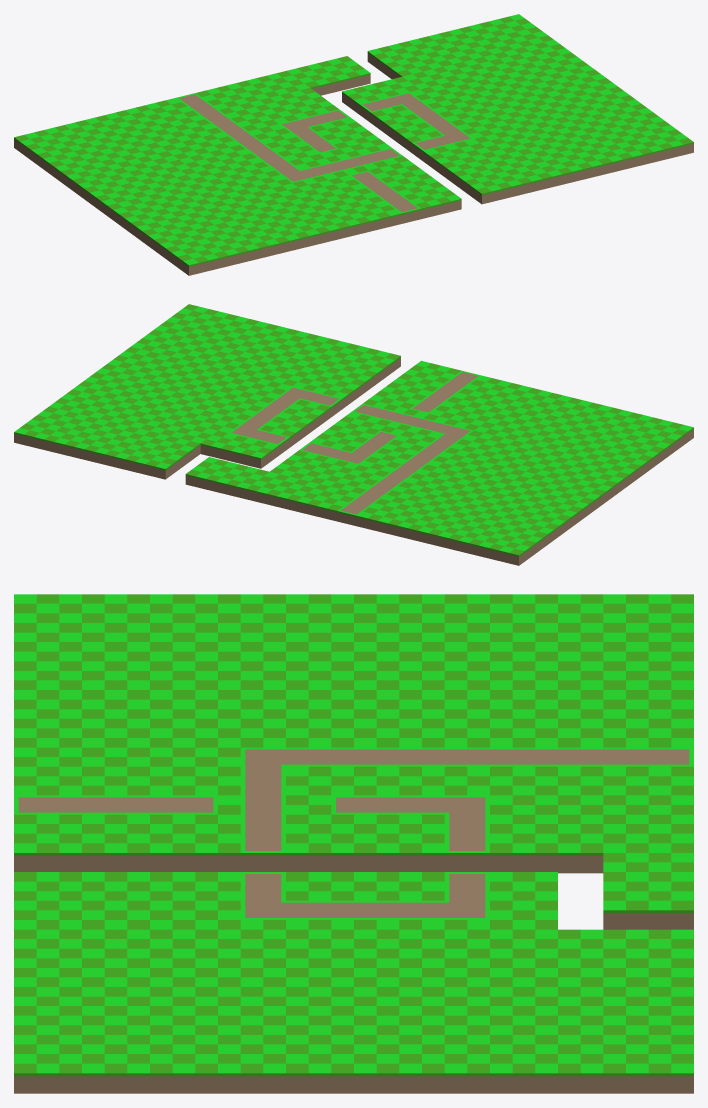
The model's file is Map 08.fbx.
3 views of the same model, one above another, from view 1: azimuth 30°, elevation 25°; view 2: azimuth 150°, elevation 25°; view 3: azimuth 270°, elevation 25° (orthographic). The views are drawn at different scales.
Parts seen in each view (by area): view 1: Plane.003; view 2: Plane.003; view 3: Plane.003.
Part boxes in pixels (<box>): Plane.003: <box>14,14,693,275</box>; Plane.003: <box>14,304,693,565</box>; Plane.003: <box>14,594,693,1093</box>.
Bounding box in the file's own units: 500 × 10 × 300.
